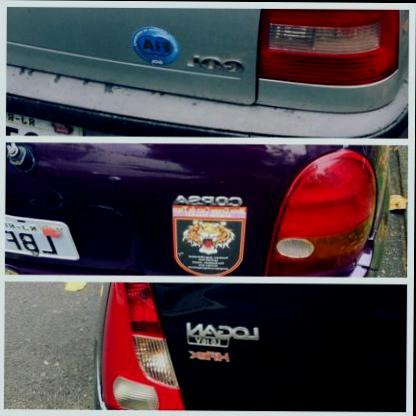License_Plate: (3, 215, 79, 262)
